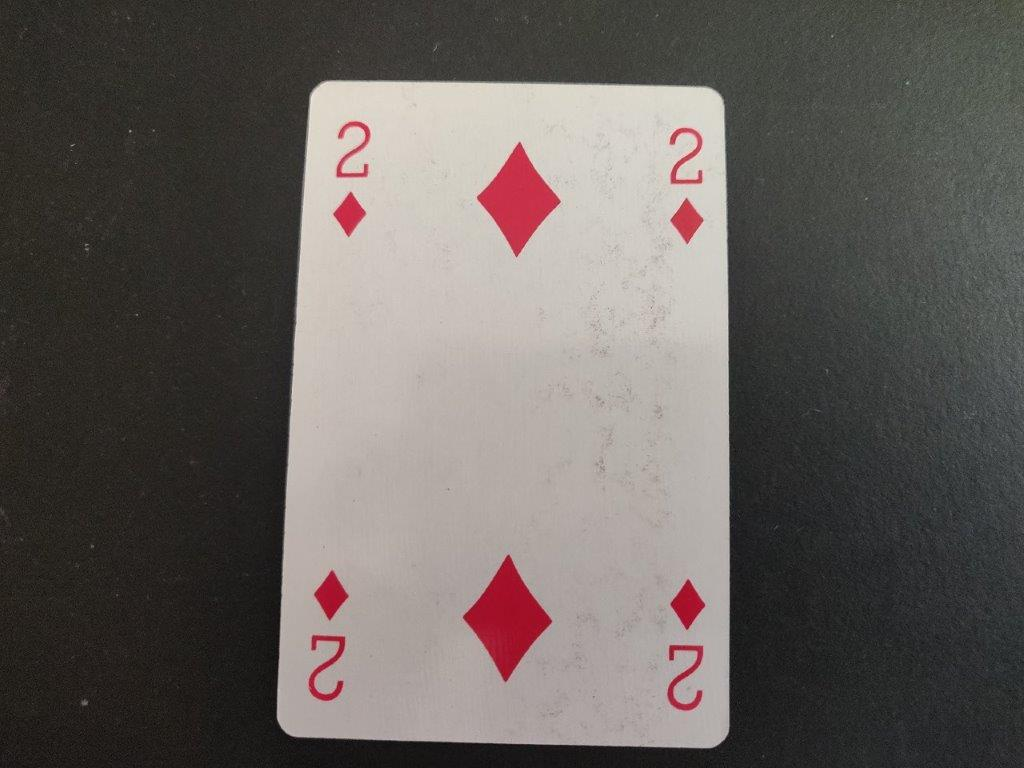2D: (326, 120, 376, 240), (663, 124, 711, 247)
